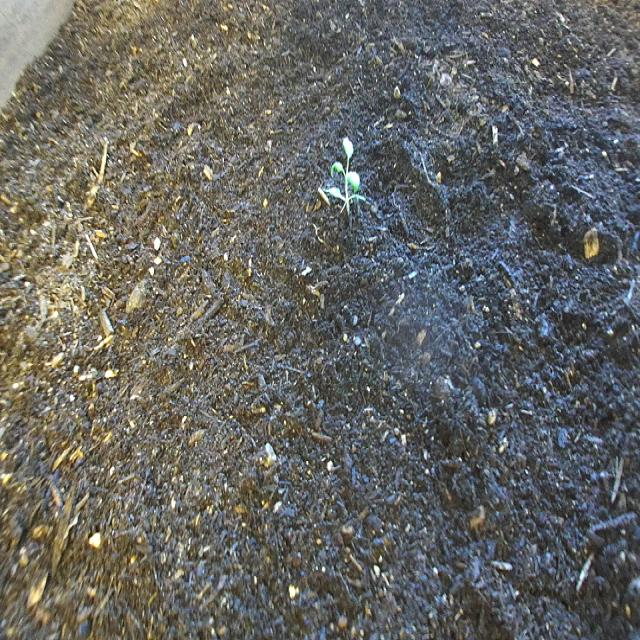Healthy: (322, 133, 369, 220)
